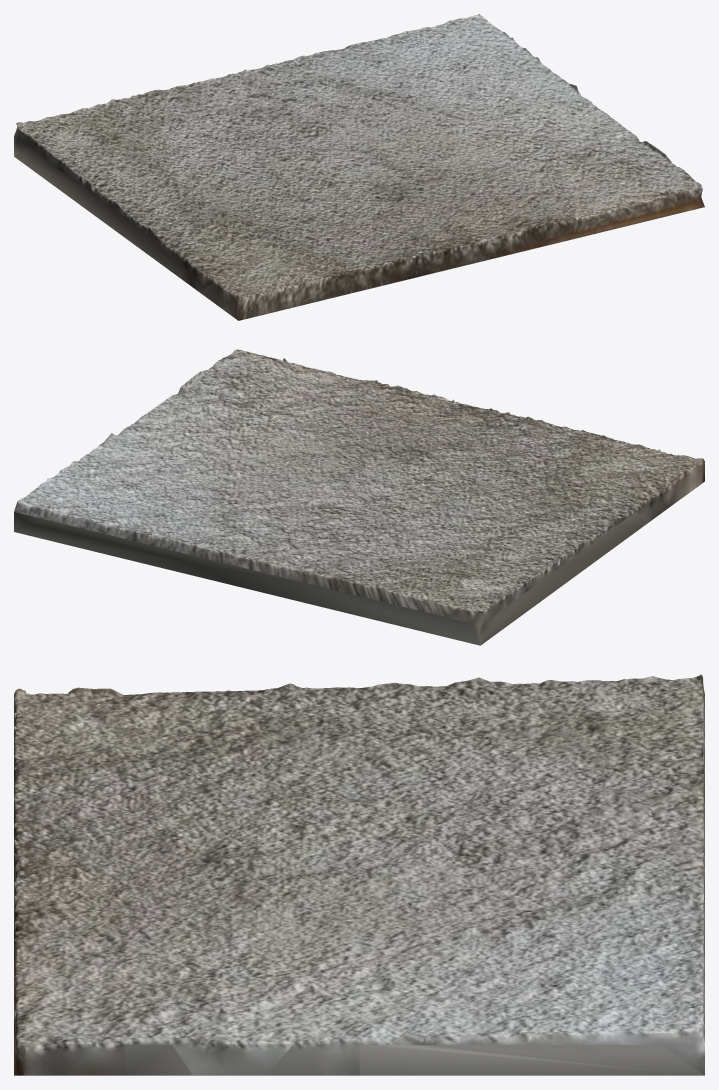
File: carpet.glb
The picture shows the model from 3 angles, top to bottom: view 1: azimuth 30°, elevation 25°; view 2: azimuth 150°, elevation 25°; view 3: azimuth 270°, elevation 25°; orthographic projection. The views are drawn at different scales.
Parts seen in each view (by area): view 1: model; view 2: model; view 3: model.
Boxes of the visible parts, bbox=[...] form: model: bbox=[14, 14, 704, 320]; model: bbox=[14, 349, 704, 645]; model: bbox=[14, 674, 704, 1075].
Size of the model in its own units: 1.68 by 0.1171 by 1.4.
1 material, 1 textured.
